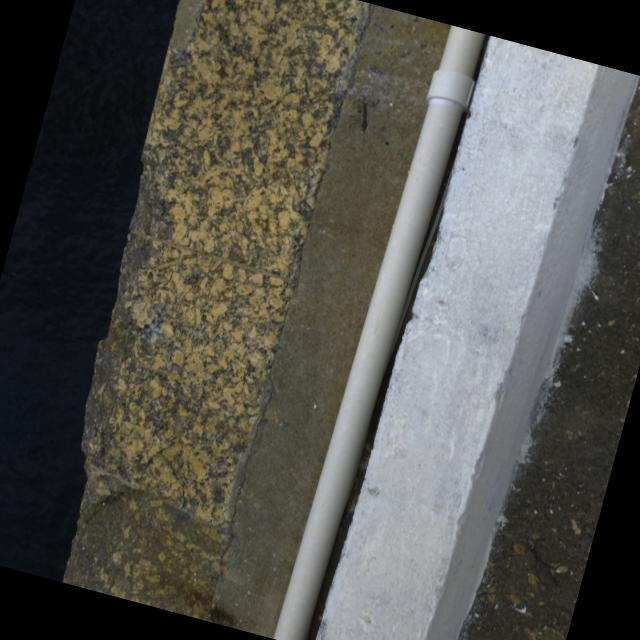gas: (269, 24, 489, 640)
